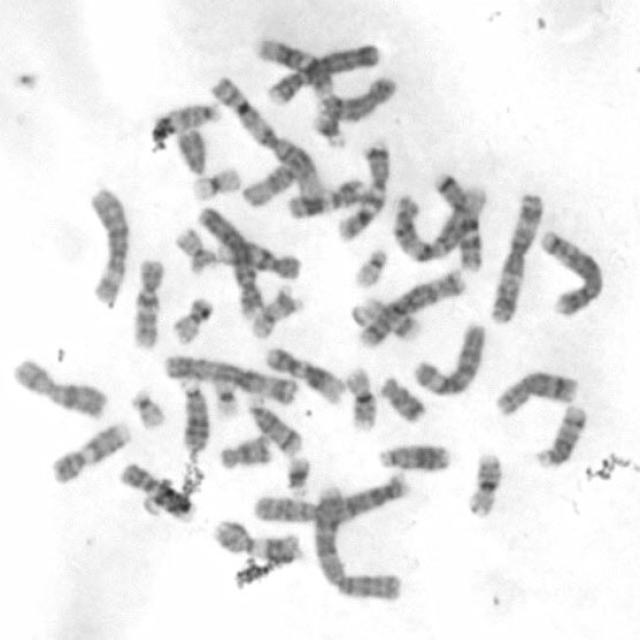A1: (207, 72, 325, 200), (388, 178, 488, 267)
A2: (309, 481, 406, 603), (248, 469, 410, 527)
A3: (485, 188, 545, 324), (160, 351, 298, 407)
B4: (194, 201, 266, 319), (262, 39, 381, 107)
B5: (354, 266, 469, 350), (536, 226, 606, 318)
C10: (208, 238, 302, 282), (126, 252, 166, 354)
C11: (208, 515, 303, 564), (284, 173, 368, 220)
C12: (261, 342, 345, 406), (252, 34, 334, 95)
C6: (408, 318, 486, 398), (83, 183, 131, 308)
C7: (332, 137, 392, 244), (431, 166, 484, 277)
C8: (491, 366, 582, 418), (314, 72, 398, 123)
C9: (47, 417, 133, 485), (115, 458, 195, 522)
D13: (174, 376, 212, 454), (374, 439, 452, 473)
D14: (242, 393, 304, 458), (531, 400, 588, 470)
D15: (236, 156, 304, 210), (160, 102, 226, 136)
E16: (462, 448, 504, 518), (341, 362, 379, 433)
E17: (347, 295, 422, 343), (247, 282, 299, 341)
E18: (376, 369, 427, 425), (215, 431, 274, 472)
F19: (188, 164, 242, 202), (211, 373, 238, 420)
F20: (168, 291, 215, 347), (170, 224, 217, 273)
G21: (307, 107, 349, 150), (280, 451, 314, 497)
G22: (128, 384, 168, 432), (349, 245, 391, 288)
X: (7, 353, 109, 421)
Y: (174, 123, 209, 177)
